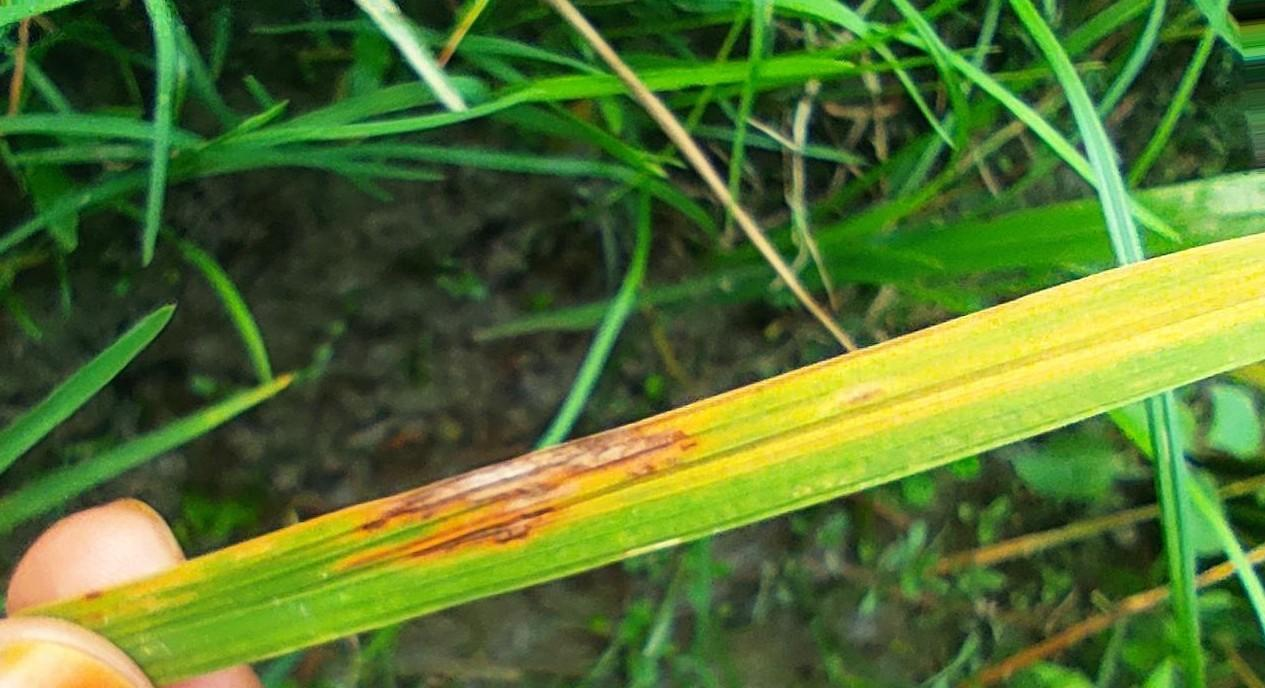LEAF: (32, 237, 1264, 681)
NBS: (410, 528, 493, 559), (81, 591, 103, 601)
